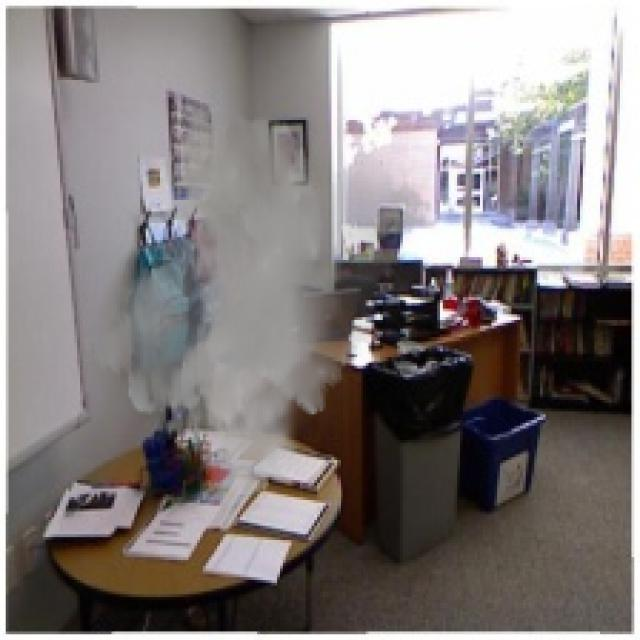smoke: (83, 100, 434, 497)
